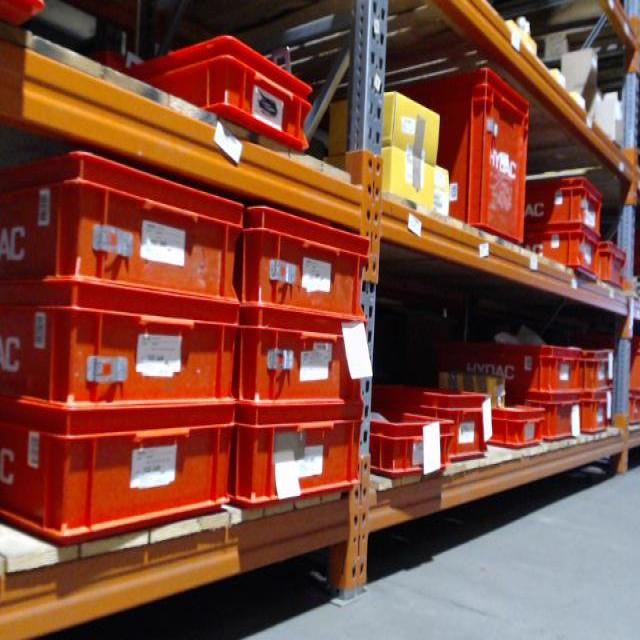pallet: (397, 12, 633, 65)
small_load_carrier: (4, 153, 241, 328), (2, 285, 232, 429), (1, 415, 231, 543), (398, 69, 534, 242), (127, 35, 312, 147), (239, 207, 366, 339), (237, 305, 367, 423), (236, 414, 364, 515), (451, 335, 586, 406), (370, 411, 450, 496), (420, 385, 492, 467), (530, 176, 607, 232), (490, 403, 546, 459), (528, 232, 604, 269), (531, 392, 586, 443), (597, 242, 632, 287), (379, 380, 422, 416), (586, 349, 616, 399), (586, 398, 612, 433), (627, 387, 639, 423)
